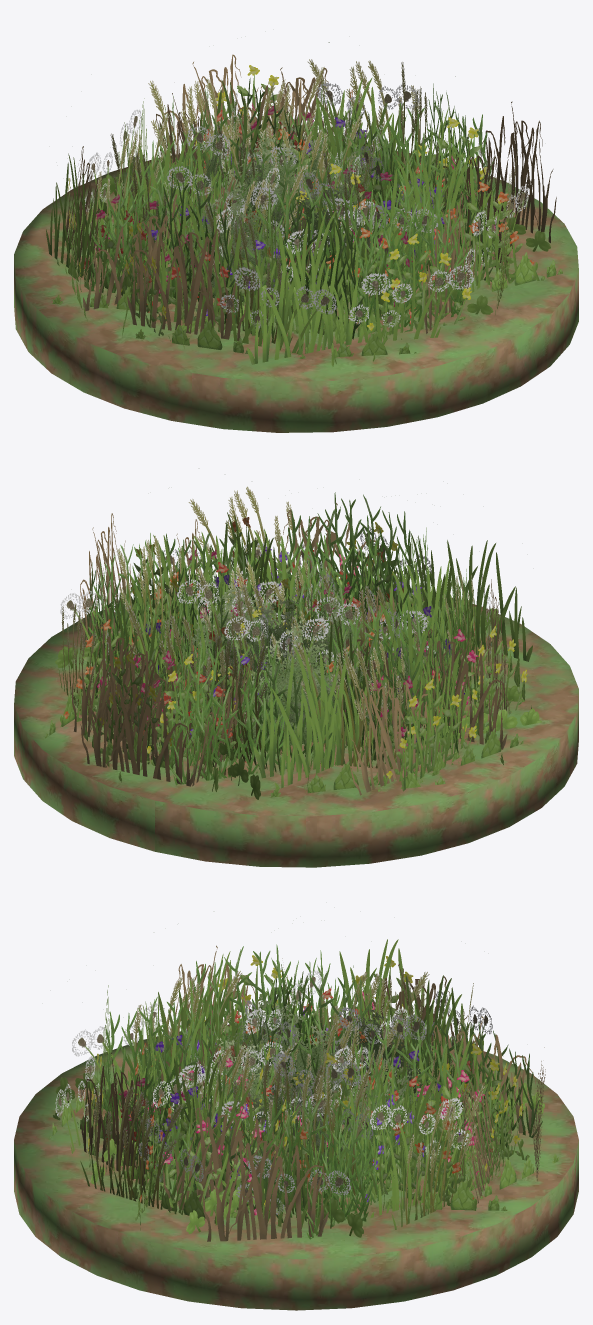
The model's file is grass-painted.glb.
The picture shows the model from 3 angles, top to bottom: view 1: azimuth 30°, elevation 25°; view 2: azimuth 150°, elevation 25°; view 3: azimuth 270°, elevation 25°; orthographic projection.
Parts seen in each view (by area): view 1: Cylinder, Plane.049, Plane.173, Plane.026, Plane.039, Plane.048, Plane.034, Plane.107, Plane.172, Plane.096, Plane.153, Plane.060 (+80 smaller); view 2: Cylinder, Plane.035, Plane.159, Plane.023, Plane.044, Plane.163, Plane.054, Plane.183, Plane.173, Plane.162, Plane.028, Plane.164 (+75 smaller); view 3: Cylinder, Plane.048, Plane.181, Plane.032, Plane.047, Plane.158, Plane.175, Plane.033, Plane.062, Plane.018, Plane.024, Plane.019 (+84 smaller).
Boxes of the visible parts, <box> form: Cylinder: <box>14,145,578,432</box>; Plane.049: <box>126,216,245,340</box>; Plane.173: <box>247,244,368,364</box>; Plane.026: <box>355,198,468,331</box>; Plane.039: <box>243,211,373,335</box>; Plane.048: <box>480,101,556,242</box>; Plane.034: <box>46,153,110,295</box>; Plane.107: <box>365,233,471,335</box>; Plane.172: <box>146,202,270,328</box>; Plane.096: <box>424,181,544,286</box>; Plane.153: <box>170,182,291,302</box>; Plane.060: <box>348,265,473,342</box>; Cylinder: <box>14,578,578,867</box>; Plane.035: <box>253,644,376,778</box>; Plane.159: <box>80,672,194,786</box>; Plane.023: <box>169,638,286,769</box>; Plane.044: <box>72,623,170,759</box>; Plane.163: <box>349,667,442,795</box>; Plane.054: <box>231,618,341,746</box>; Plane.183: <box>169,680,289,785</box>; Plane.173: <box>423,540,532,661</box>; Plane.162: <box>410,628,509,749</box>; Plane.028: <box>292,641,416,769</box>; Plane.164: <box>275,673,369,789</box>; Cylinder: <box>14,1021,578,1310</box>; Plane.048: <box>203,1128,330,1241</box>; Plane.181: <box>246,1097,375,1221</box>; Plane.032: <box>80,1086,183,1214</box>; Plane.047: <box>163,1101,290,1210</box>; Plane.158: <box>81,1052,155,1185</box>; Plane.175: <box>391,1084,484,1229</box>; Plane.033: <box>268,1069,383,1196</box>; Plane.062: <box>370,1098,468,1217</box>; Plane.018: <box>94,995,219,1121</box>; Plane.024: <box>305,1106,381,1239</box>; Plane.019: <box>180,944,305,1055</box>.
Size of the model in its own units: 2 by 0.7751 by 2.
Materials: 14 (14 with a texture image).
